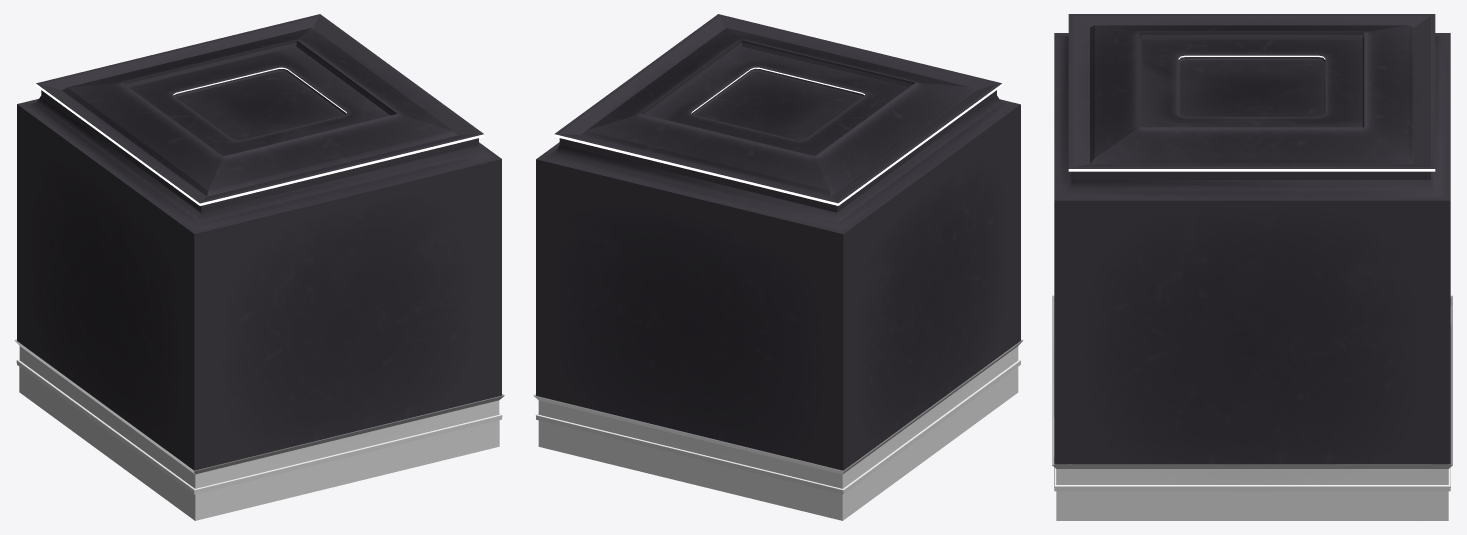
File: Room42 - Small.glb
3 views of the same model, side by side, from view 1: azimuth 30°, elevation 25°; view 2: azimuth 150°, elevation 25°; view 3: azimuth 270°, elevation 25° (orthographic). The views are drawn at different scales.
Parts seen in each view (by area): view 1: Cube-Small; view 2: Cube-Small; view 3: Cube-Small.
Part boxes in pixels (<box>): Cube-Small: <box>14,14,504,520</box>; Cube-Small: <box>533,14,1023,520</box>; Cube-Small: <box>1052,14,1452,520</box>.
Bounding box in the file's own units: 4.05 × 3.99 × 4.05.
Materials: 2 (1 with a texture image).
